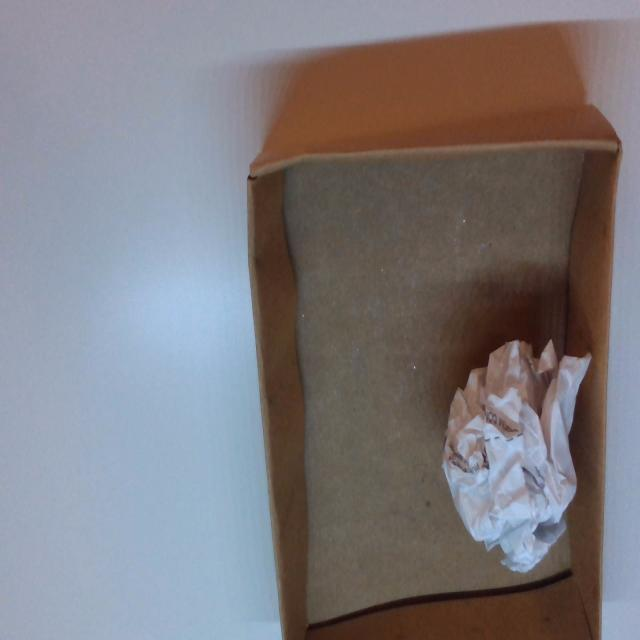Cardboard: (246, 103, 624, 640)
Paper: (440, 330, 595, 576)
